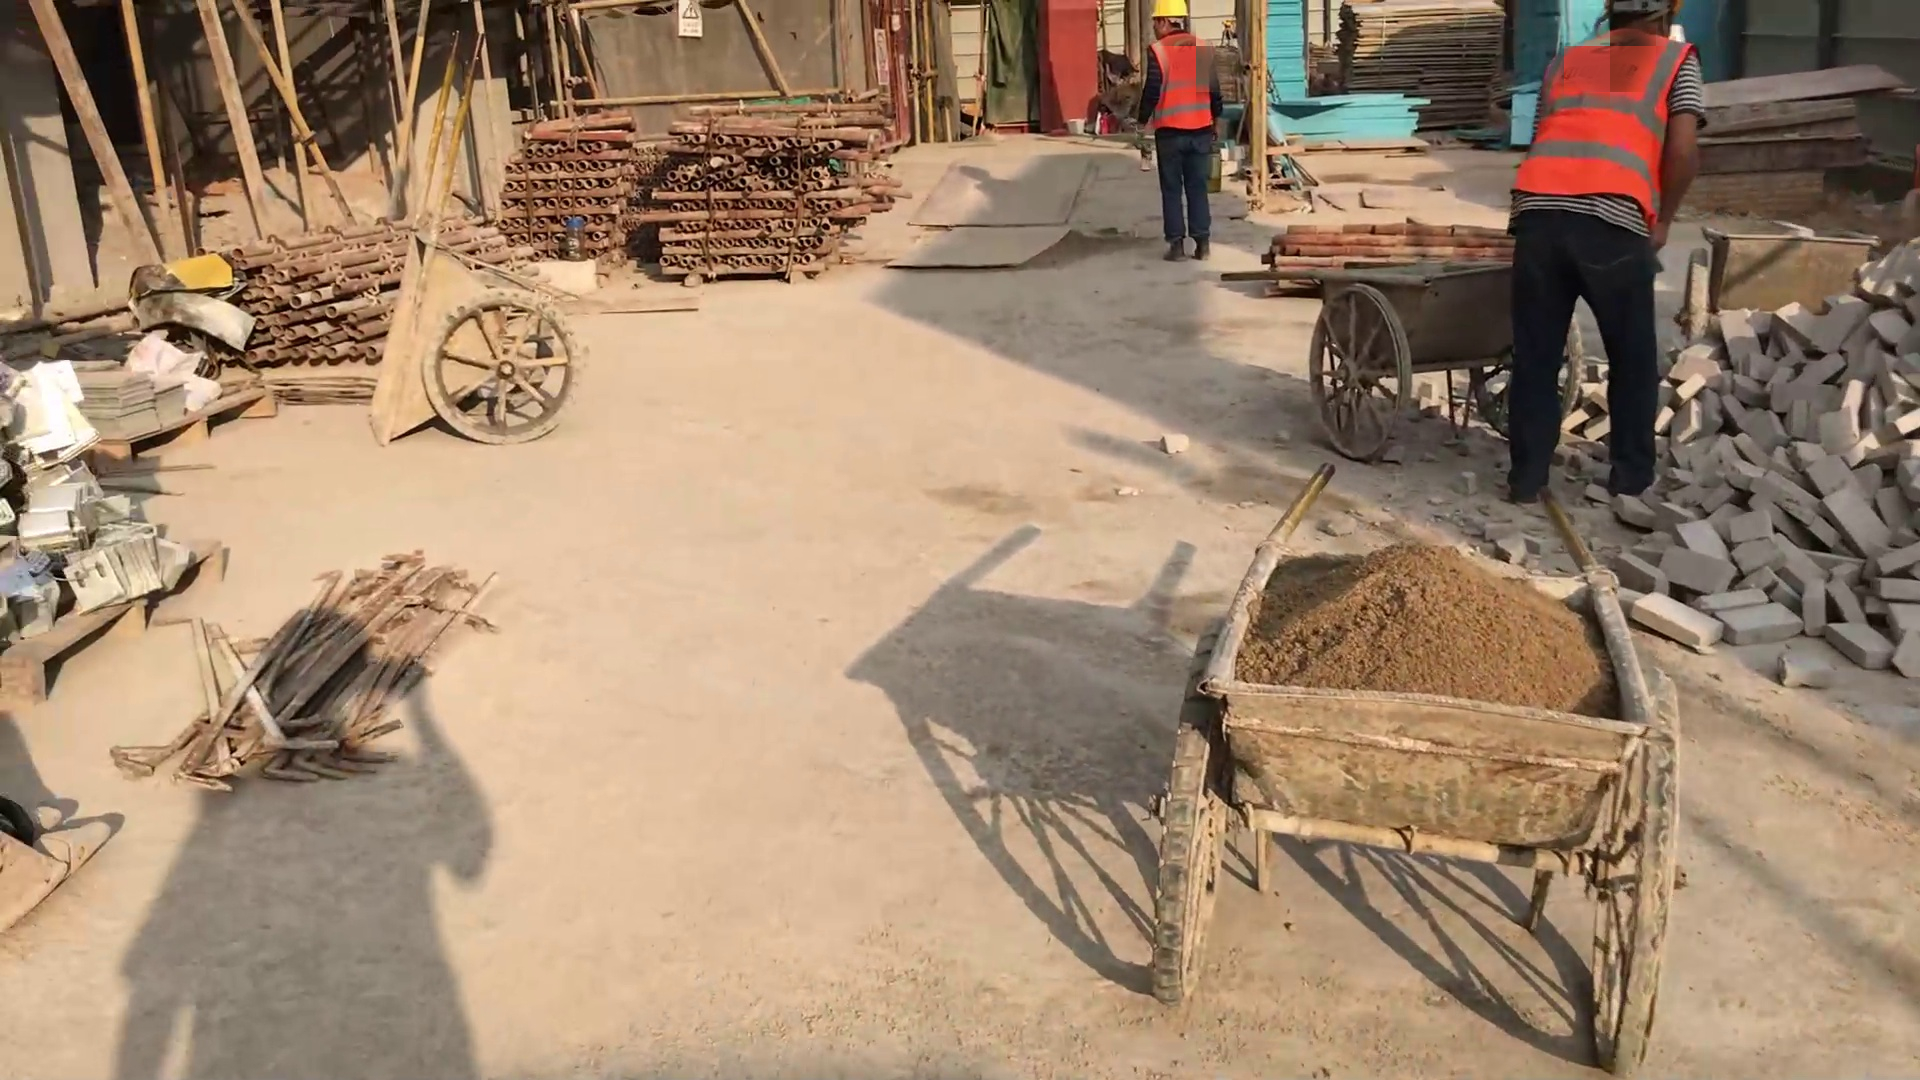board: (1338, 1, 1503, 136)
handcart: (1145, 459, 1697, 1080), (364, 24, 585, 452), (1213, 261, 1587, 466), (1677, 212, 1877, 321)
helmet: (1145, 1, 1193, 25)
person: (1500, 1, 1711, 509), (1132, 1, 1225, 262)
scaffold: (193, 209, 532, 367), (654, 92, 891, 283), (497, 113, 643, 274), (1264, 216, 1514, 286)
slogan: (871, 24, 889, 86), (677, 1, 700, 40)
vest: (1509, 24, 1701, 228), (1149, 29, 1216, 134)
